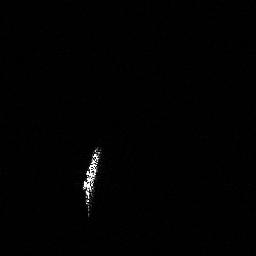ship: (77, 143, 106, 220)
